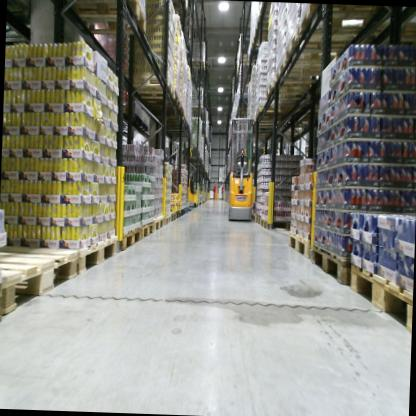pallet: (1, 246, 77, 323), (345, 259, 413, 342), (298, 4, 404, 39), (54, 0, 149, 35), (272, 51, 350, 88), (60, 233, 118, 277), (284, 24, 348, 63), (310, 243, 351, 289), (129, 75, 176, 102), (263, 77, 311, 103), (136, 89, 182, 110), (253, 102, 293, 124), (119, 223, 144, 256), (141, 100, 186, 118), (286, 231, 313, 260), (137, 216, 156, 243), (261, 216, 292, 231), (0, 275, 7, 325), (152, 215, 165, 234), (158, 117, 187, 125), (188, 58, 207, 70), (190, 103, 204, 115), (161, 212, 171, 228), (254, 210, 261, 227), (170, 210, 177, 223), (177, 207, 184, 220), (173, 211, 181, 221), (181, 207, 187, 217), (251, 209, 255, 223), (184, 207, 190, 216)
pallet_truck: (221, 112, 257, 220), (183, 160, 201, 210)
